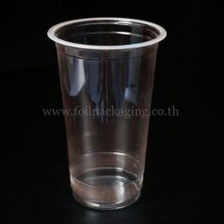glass: (43, 12, 172, 214)
